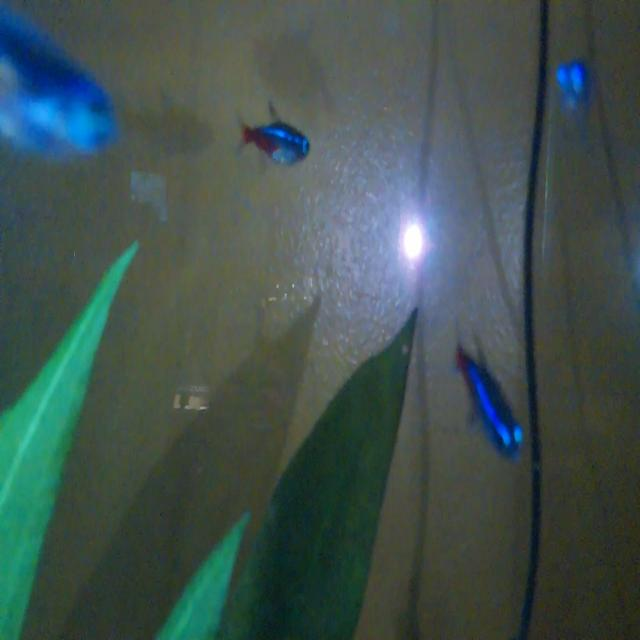fish: (442, 325, 531, 467), (233, 102, 316, 178)
